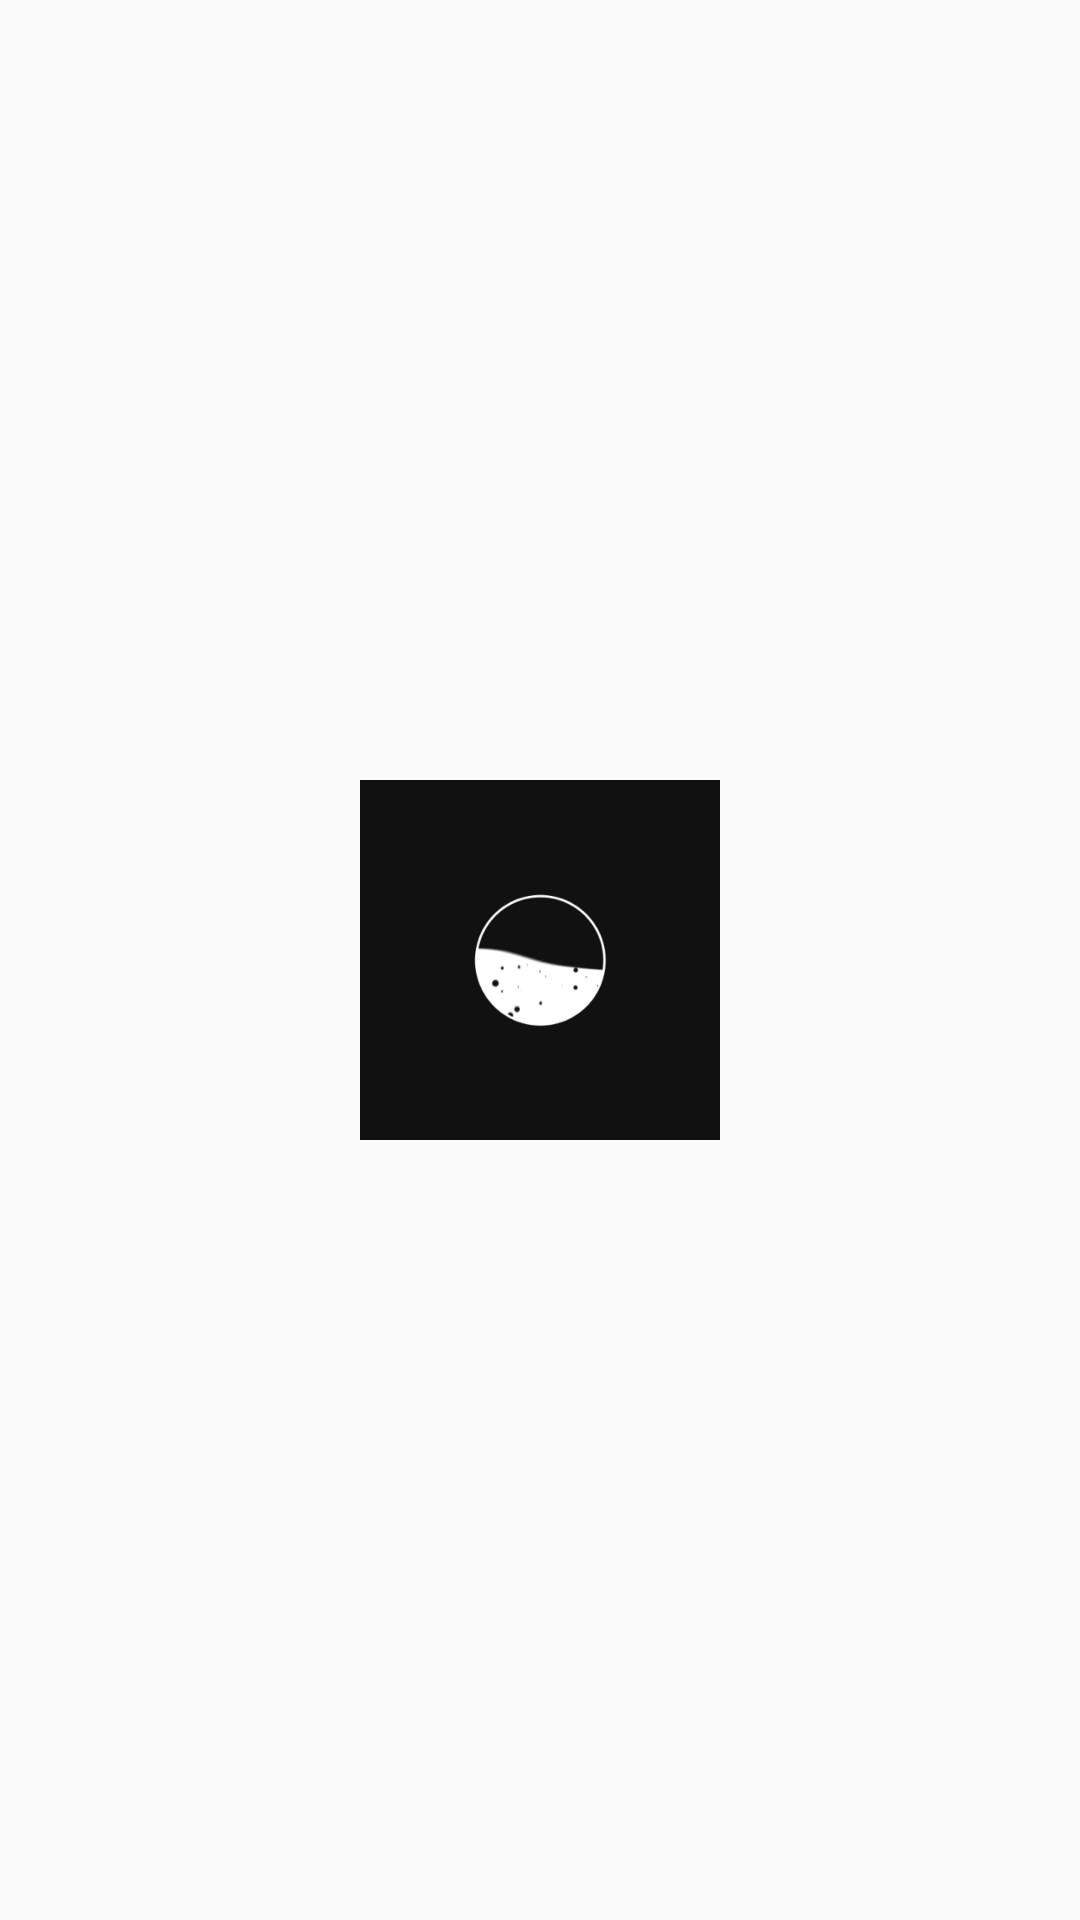

Screen size 1080*1920. Icon name, then its center in pixels as (x=x, y=y):
loadergif: (x=540, y=960)
